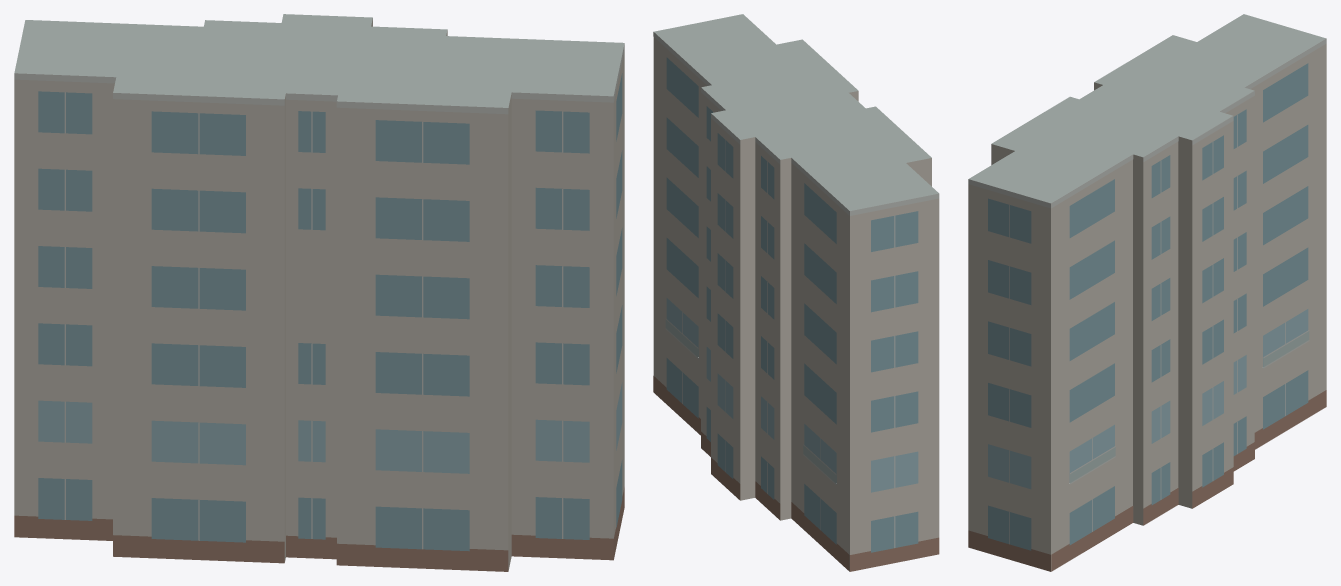
Rendered from survey-upis-32939023.glb.
3 views of the same model, side by side, from view 1: azimuth 30°, elevation 25°; view 2: azimuth 150°, elevation 25°; view 3: azimuth 270°, elevation 25° (orthographic). The views are drawn at different scales.
Visible parts, largest first — view 1: survey-upis-32939023.tmp; view 2: survey-upis-32939023.tmp; view 3: survey-upis-32939023.tmp.
Part boxes in pixels (x1,y1,x2,y2): survey-upis-32939023.tmp: [14, 14, 624, 571]; survey-upis-32939023.tmp: [653, 14, 939, 571]; survey-upis-32939023.tmp: [968, 14, 1326, 571].
Size of the model in its own units: 19.86 by 18 by 15.87.
